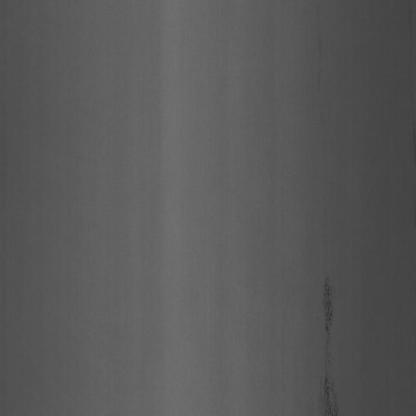inclusion: (316, 269, 346, 413)
